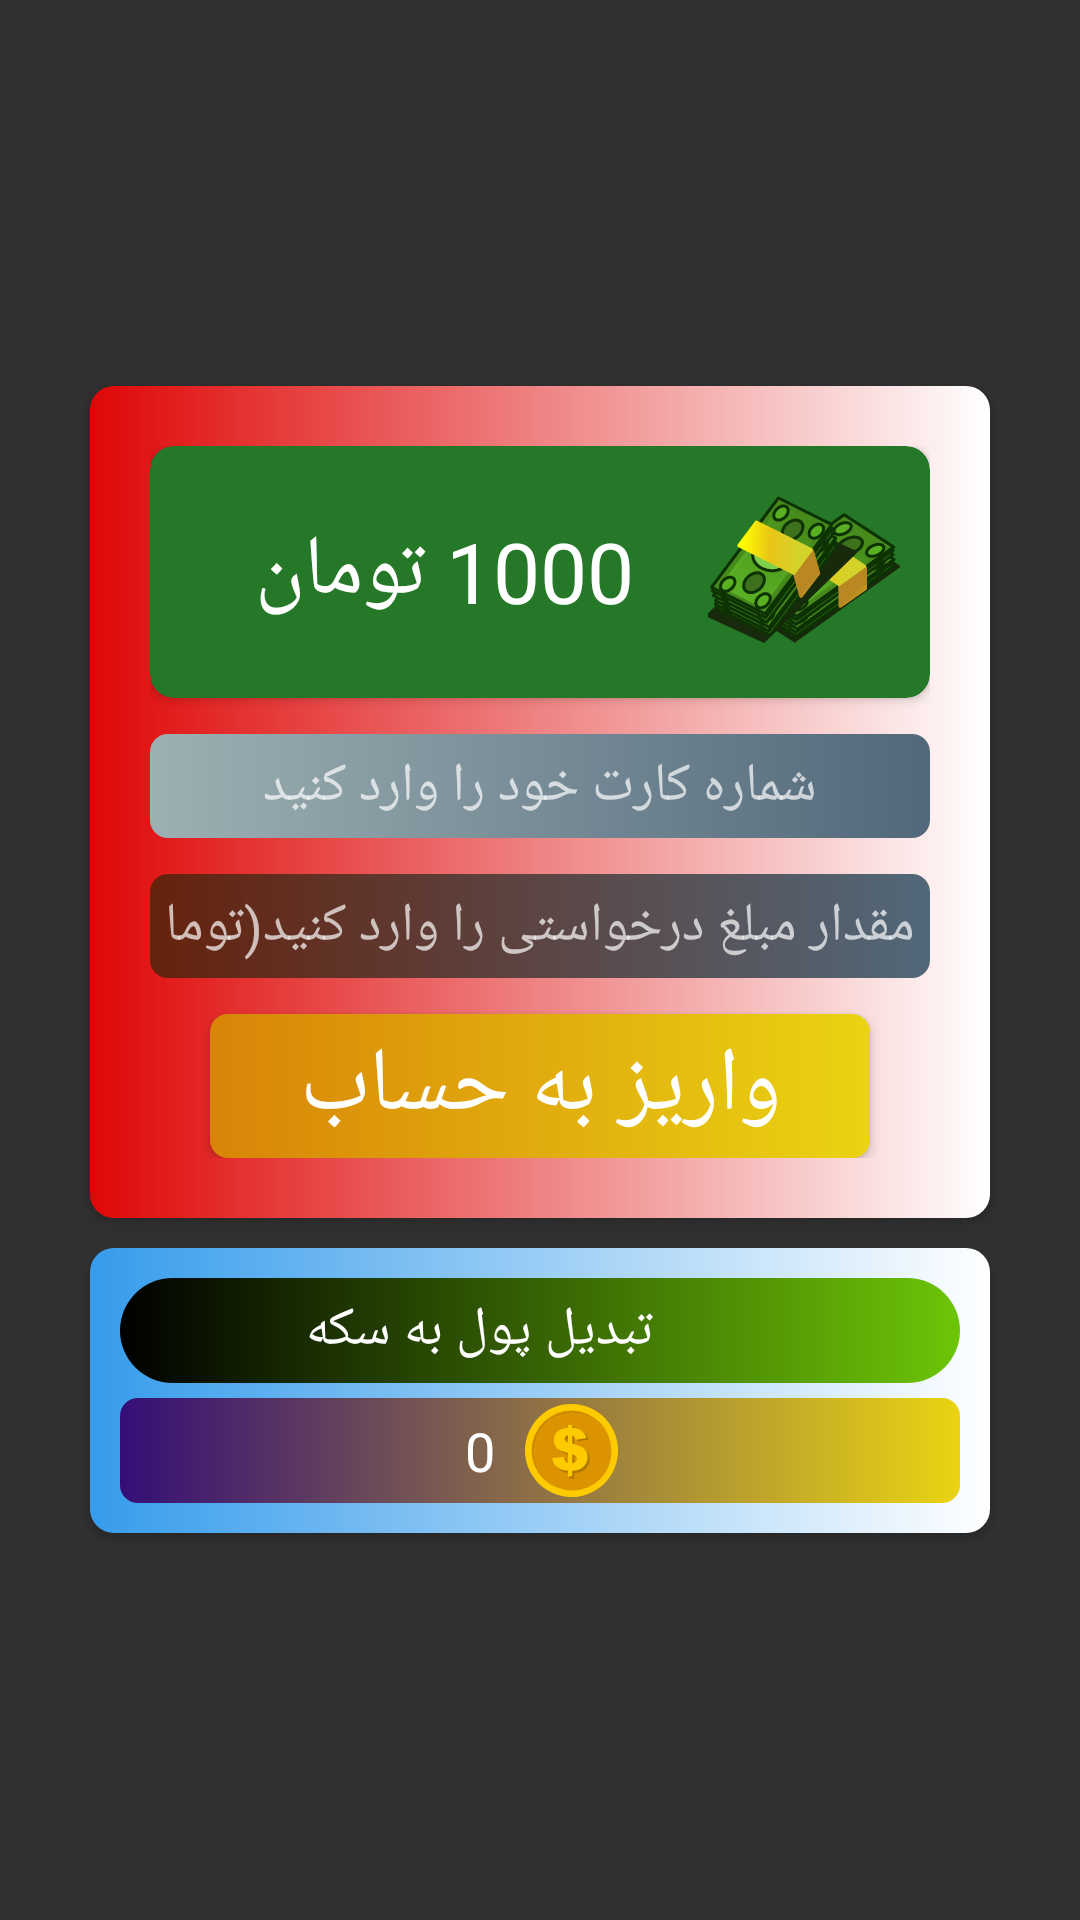

Icons on this 1080px x 1920px Android screen, each with the point to tap as [x,y]:
coin: [571,1450]
